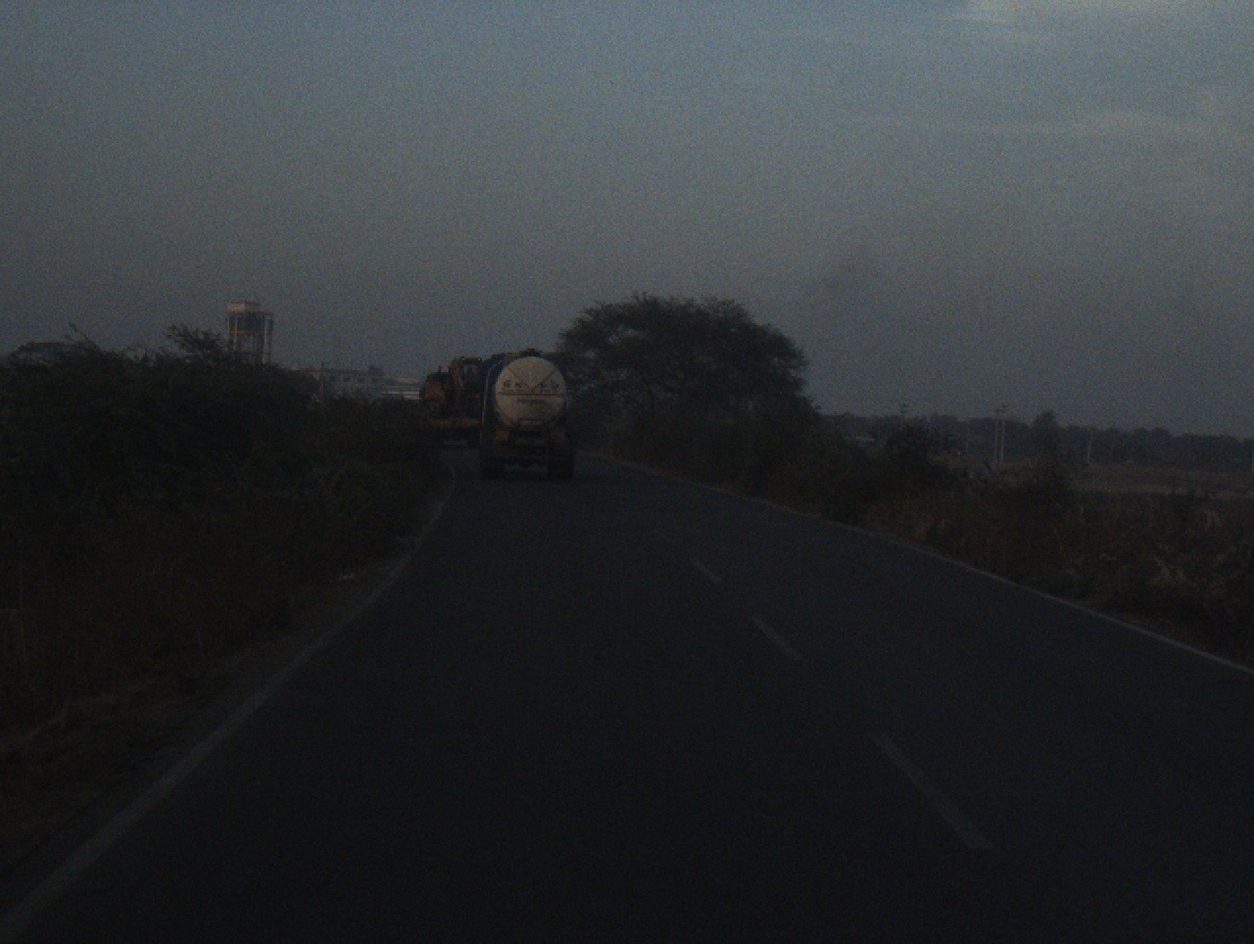truck: (470, 351, 585, 481)
vehicle fallback: (405, 351, 492, 457)
